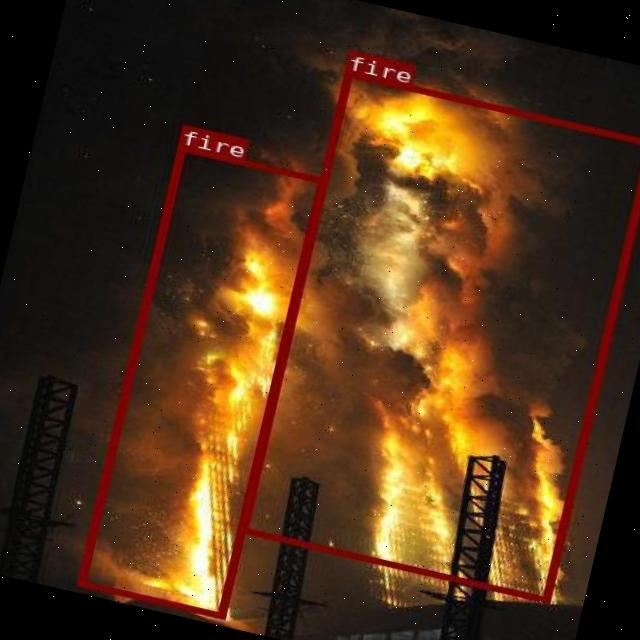fire: (236, 67, 640, 602), (74, 143, 326, 618)
